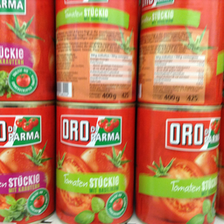tomato_sauce: (137, 103, 224, 223), (55, 100, 137, 224), (138, 1, 224, 100), (54, 1, 136, 98), (1, 100, 55, 224), (1, 1, 55, 100)
